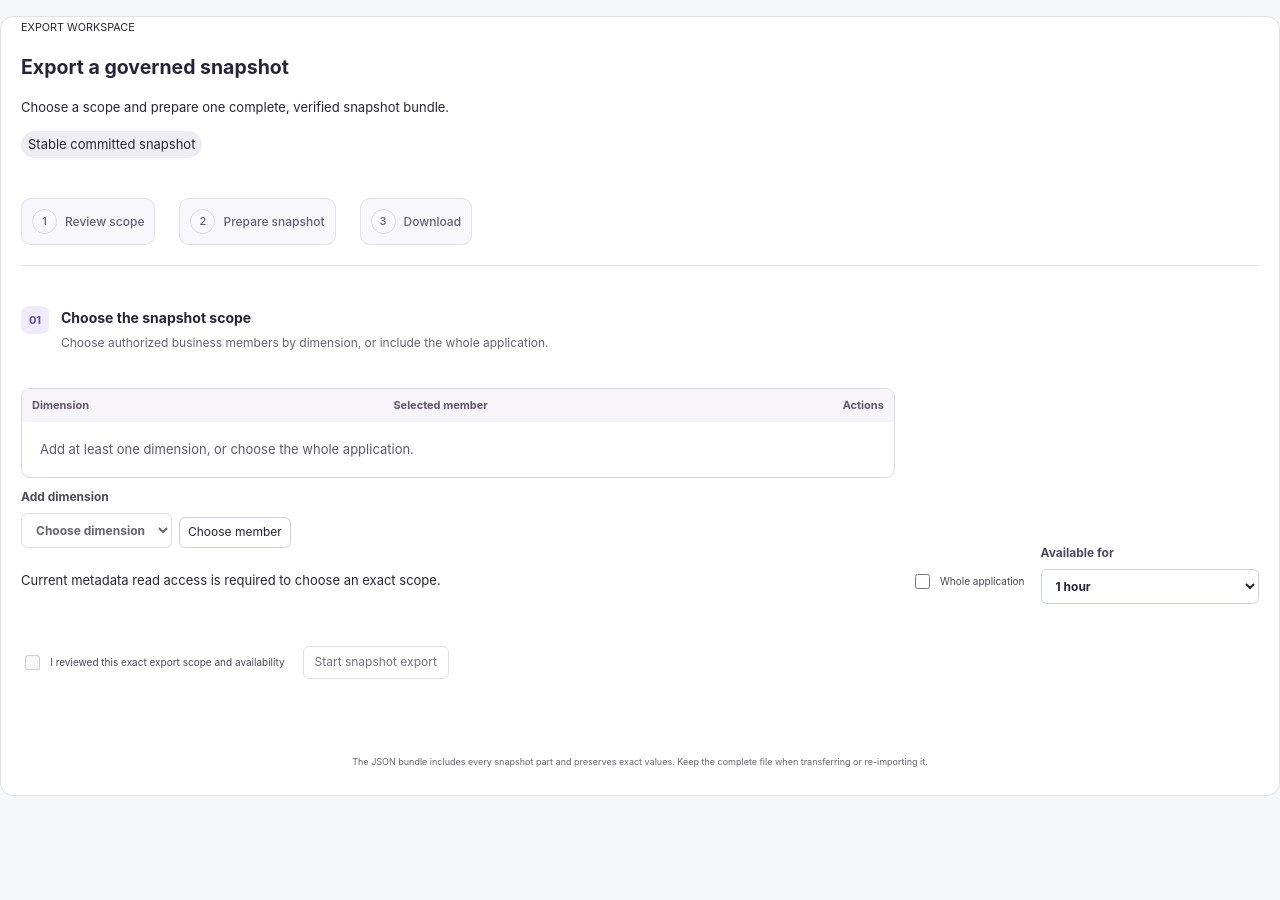
refuses an export effect when all recovery slots are pinned
The width and height of the screenshot is (1280, 900).
Click the checkbox labelled "Whole application". click: (922, 581)
box: [915,574,930,589]
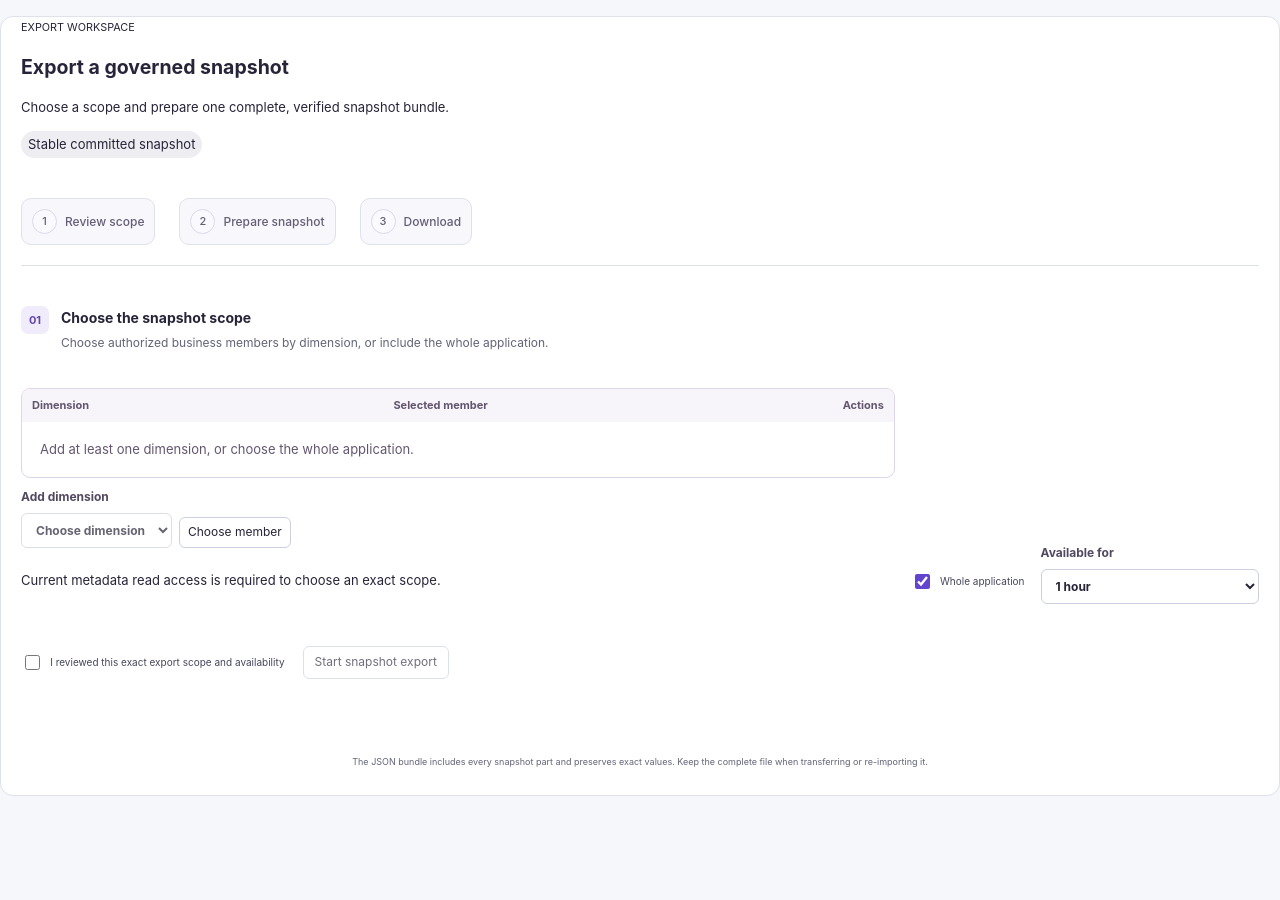
Click the checkbox labelled "I reviewed this exact export scope and availability". click: (32, 662)
box: [25,655,40,670]
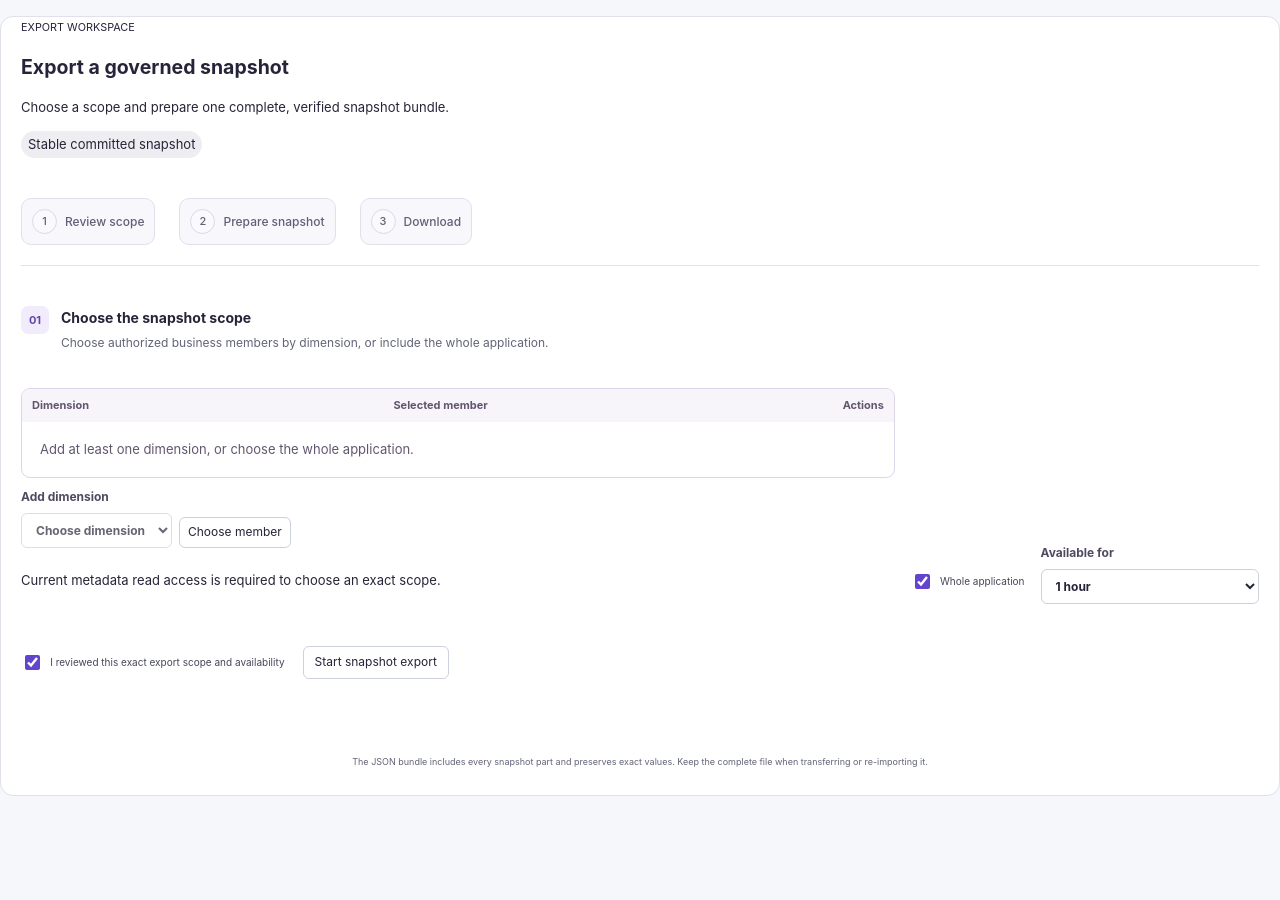
Click the button "Start snapshot export". click: (376, 662)
box: [302,646,449,679]
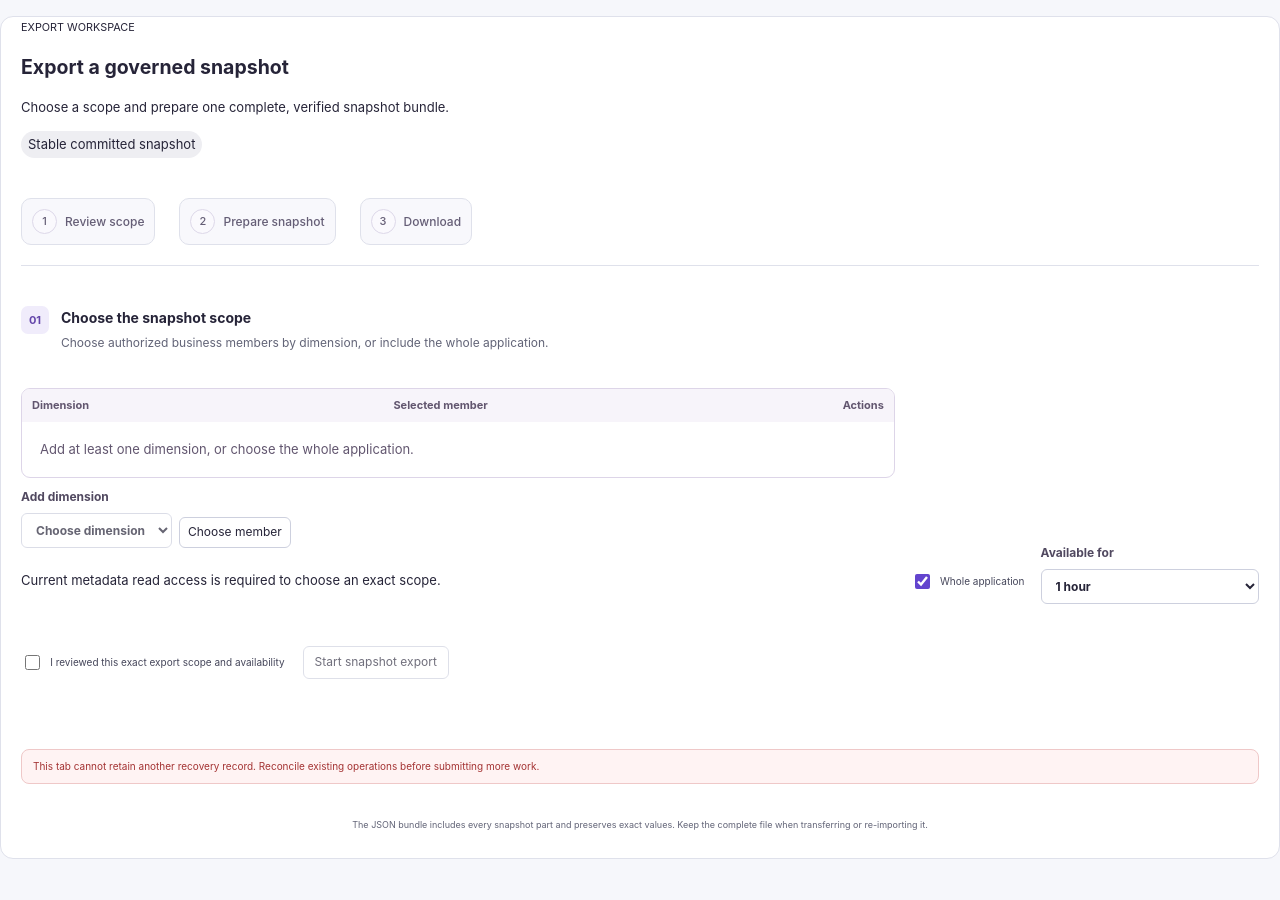
Expected: the text "This tab cannot retain another recovery record. Reconcile existing operations before submitting more work." is shown, [33,760,539,772]
